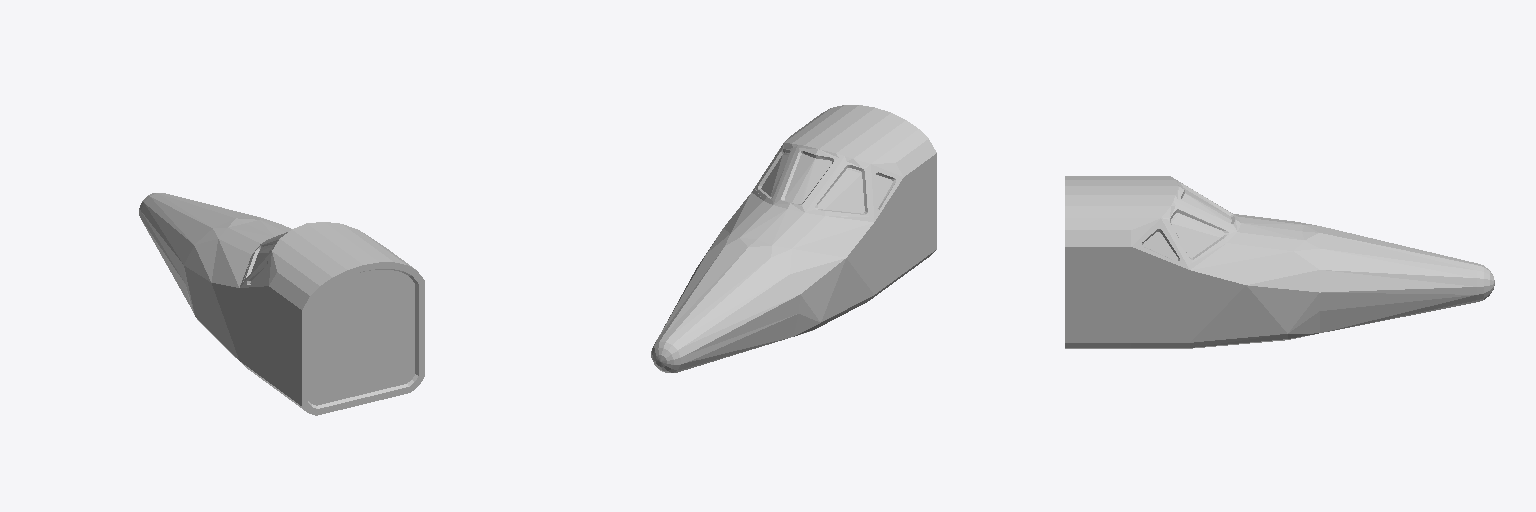
File: x20cockpit.obj
The picture shows the model from 3 angles: view 1: azimuth 30°, elevation 25°; view 2: azimuth 150°, elevation 25°; view 3: azimuth 270°, elevation 25°; orthographic projection.
Parts seen in each view (by area): view 1: Cockpit1.001; view 2: Cockpit1.001; view 3: Cockpit1.001.
Boxes of the visible parts, <box> form: Cockpit1.001: <box>139,193,424,415</box>; Cockpit1.001: <box>651,105,936,372</box>; Cockpit1.001: <box>1065,176,1494,348</box>.
Bounding box in the file's own units: 1 × 1.08 × 3.03.